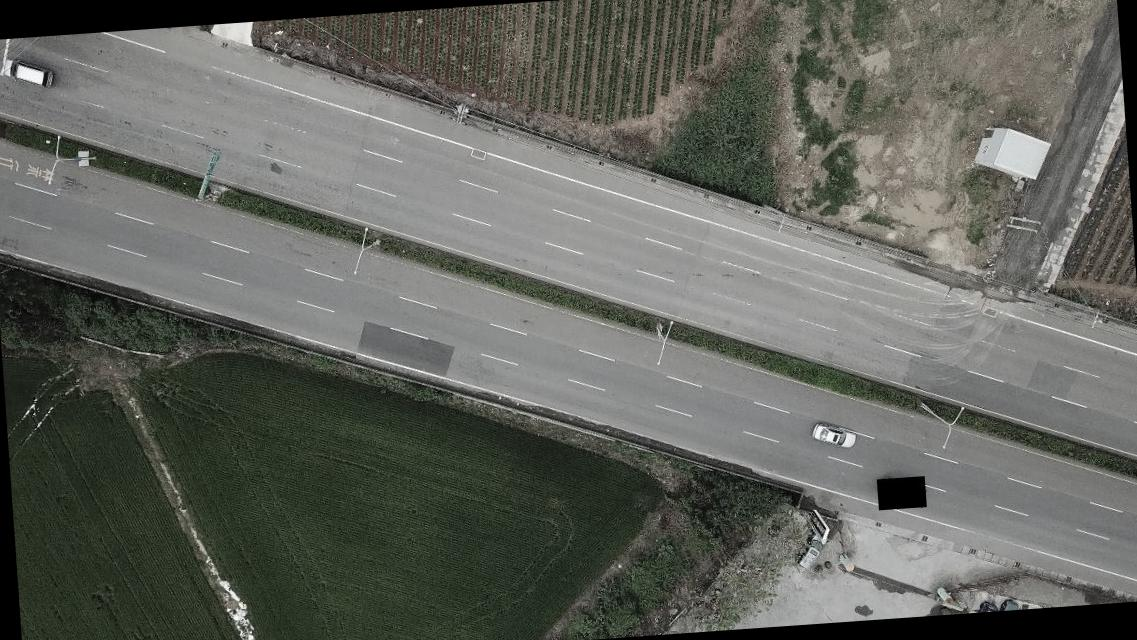vehicle: (2, 54, 54, 92), (812, 421, 856, 450), (794, 530, 827, 566)
